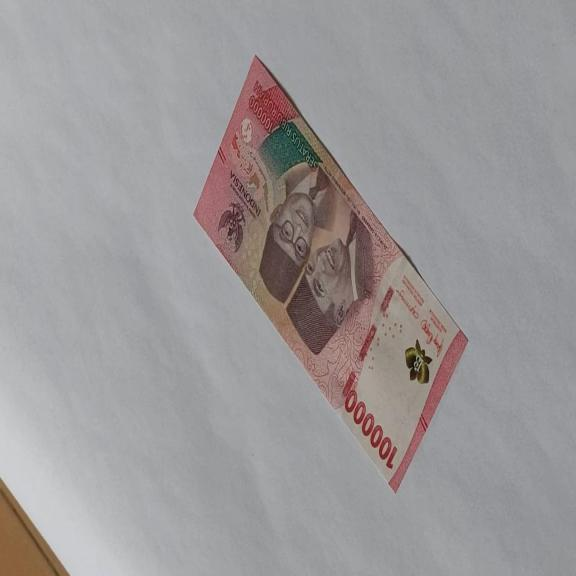Kertas: (193, 53, 469, 493), (343, 388, 398, 470), (280, 118, 320, 172), (228, 168, 262, 218)
